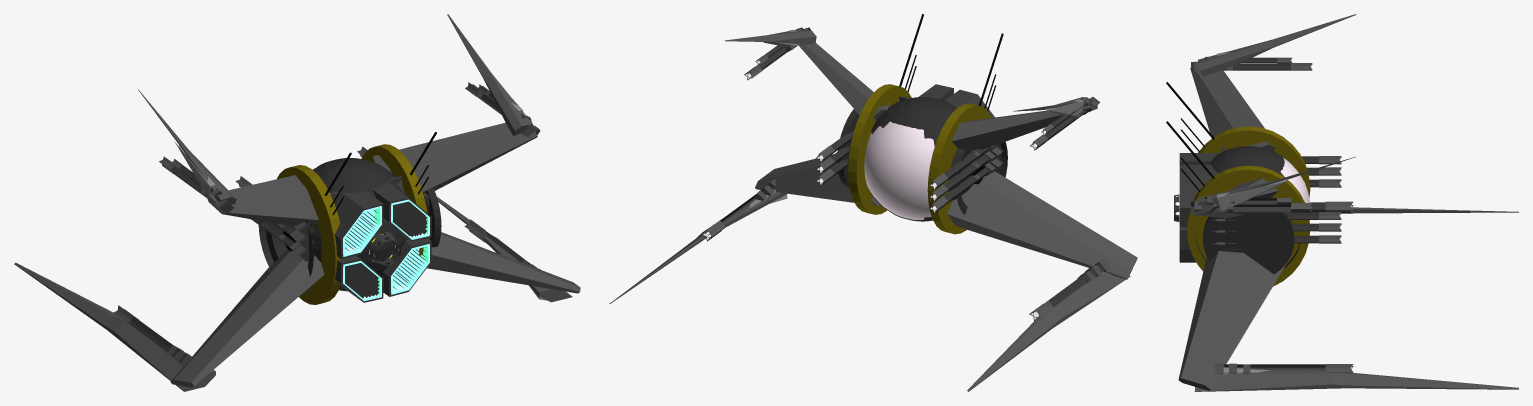
Rendered from Amelka.fbx.
3 renders of one model, left to right at view 1: azimuth 30°, elevation 25°; view 2: azimuth 150°, elevation 25°; view 3: azimuth 270°, elevation 25°, orthographic. The views are drawn at different scales.
Parts seen in each view (by area): view 1: Sphere.007; view 2: Sphere.007; view 3: Sphere.007.
Part boxes in pixels (x1,y1,x2,y2): Sphere.007: (14, 14, 580, 391); Sphere.007: (609, 14, 1137, 391); Sphere.007: (1166, 14, 1518, 391).
Size of the model in its own units: 700 by 391 by 568.
